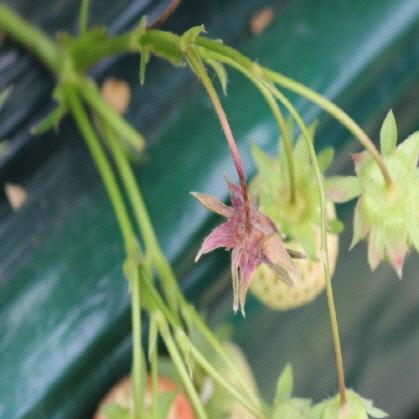Gray Mold: (191, 174, 307, 315)
